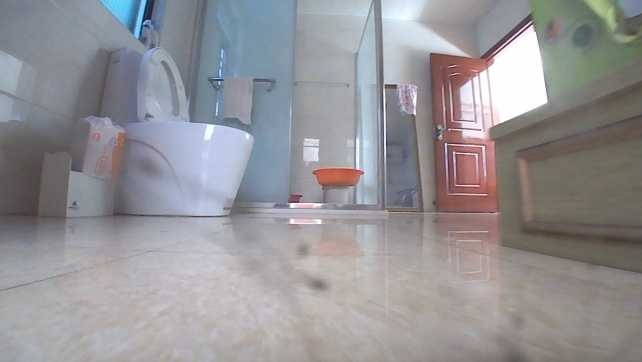door_anno: (427, 50, 503, 214)
toilet: (96, 40, 255, 217)
